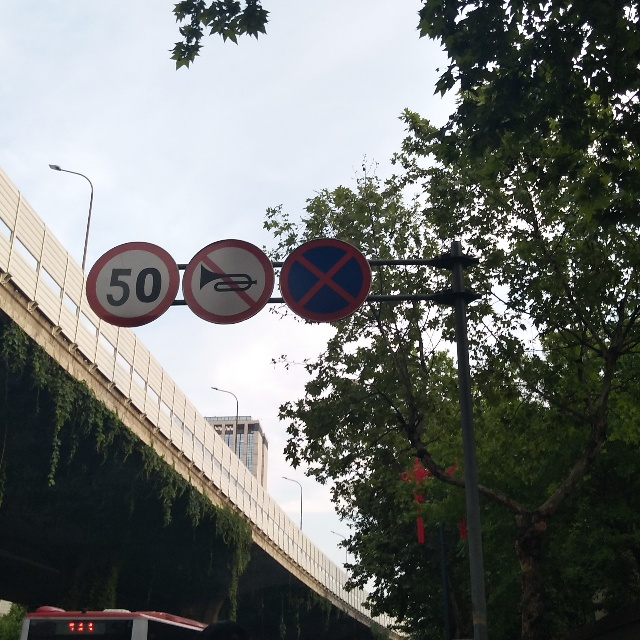nohonk: (195, 248, 264, 320)
stop: (286, 248, 360, 313)
